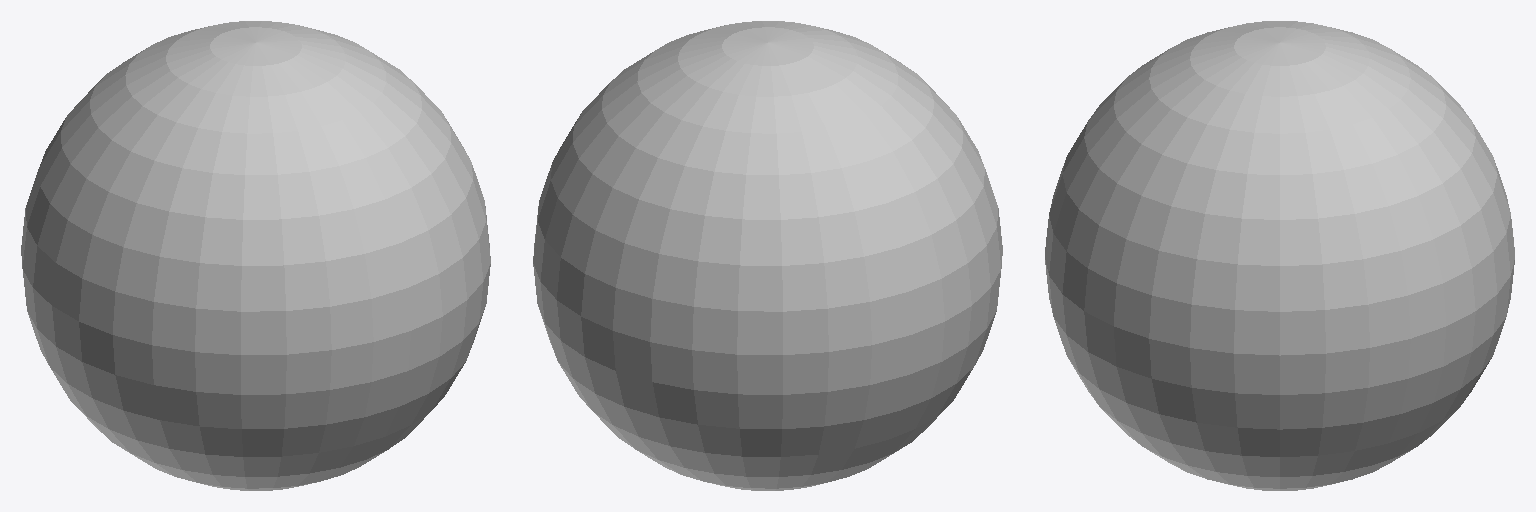
Rendered from Luna — копия.obj.
The picture shows the model from 3 angles: view 1: azimuth 30°, elevation 25°; view 2: azimuth 150°, elevation 25°; view 3: azimuth 270°, elevation 25°; orthographic projection.
Parts seen in each view (by area): view 1: Сфера.009_Сфера.001; view 2: Сфера.009_Сфера.001; view 3: Сфера.009_Сфера.001.
Boxes of the visible parts, <box> form: Сфера.009_Сфера.001: <box>21,21,490,490</box>; Сфера.009_Сфера.001: <box>533,21,1002,490</box>; Сфера.009_Сфера.001: <box>1045,21,1514,490</box>.
Bounding box in the file's own units: 1.2 × 1.2 × 1.2.